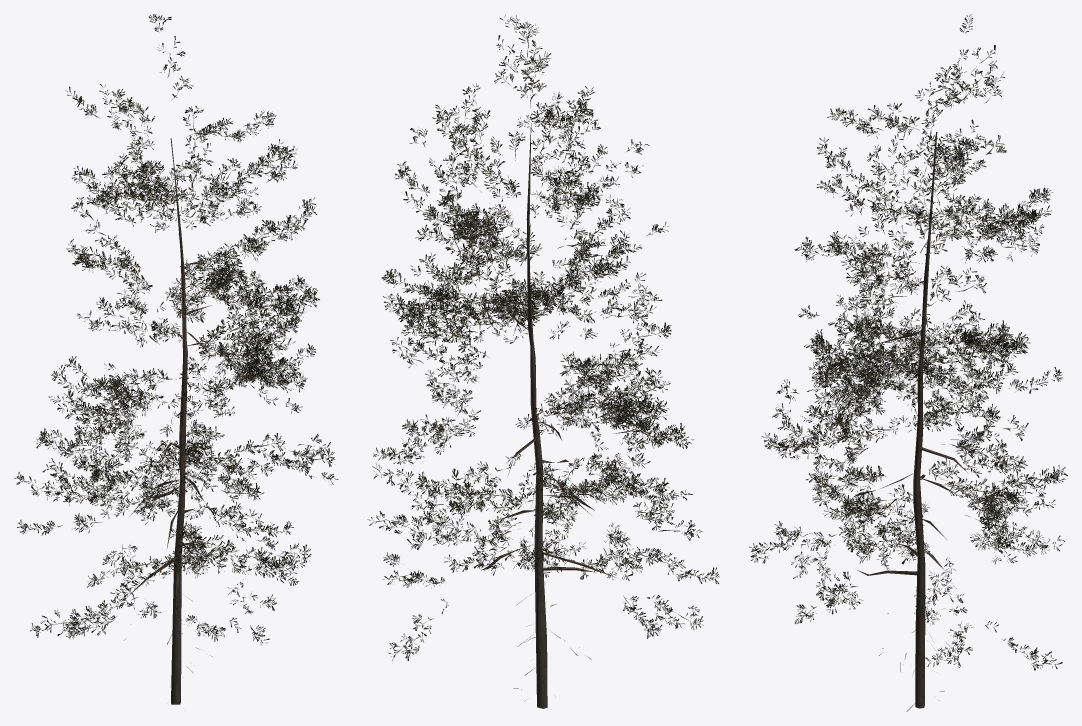
Rendered from conifer-realistic.glb.
The picture shows the model from 3 angles, left to right: view 1: azimuth 30°, elevation 25°; view 2: azimuth 150°, elevation 25°; view 3: azimuth 270°, elevation 25°; orthographic projection. The views are drawn at different scales.
Parts seen in each view (by area): view 1: pine_sapling_medium_a_LOD0; view 2: pine_sapling_medium_a_LOD0; view 3: pine_sapling_medium_a_LOD0.
Part boxes in pixels (x1,y1,x2,y2): pine_sapling_medium_a_LOD0: [14, 14, 338, 704]; pine_sapling_medium_a_LOD0: [367, 15, 719, 708]; pine_sapling_medium_a_LOD0: [749, 14, 1067, 711].
Size of the model in its own units: 5.16 by 11.36 by 4.71.
3 materials, 3 textured.
